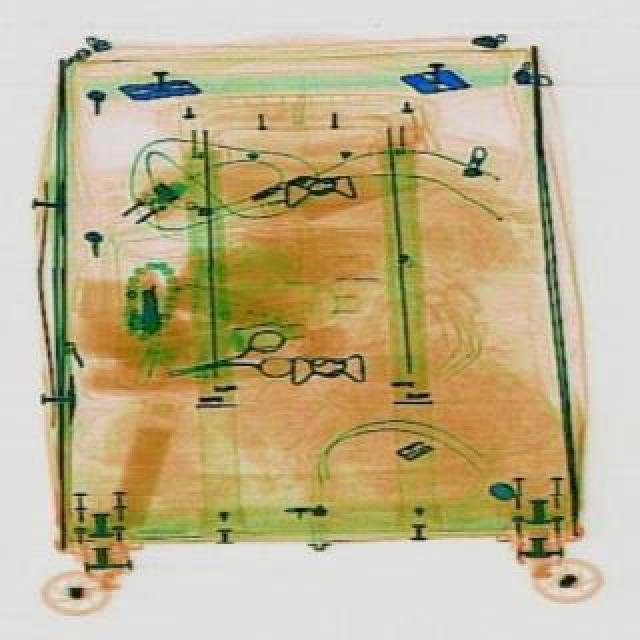pliers: (160, 324, 294, 400)
